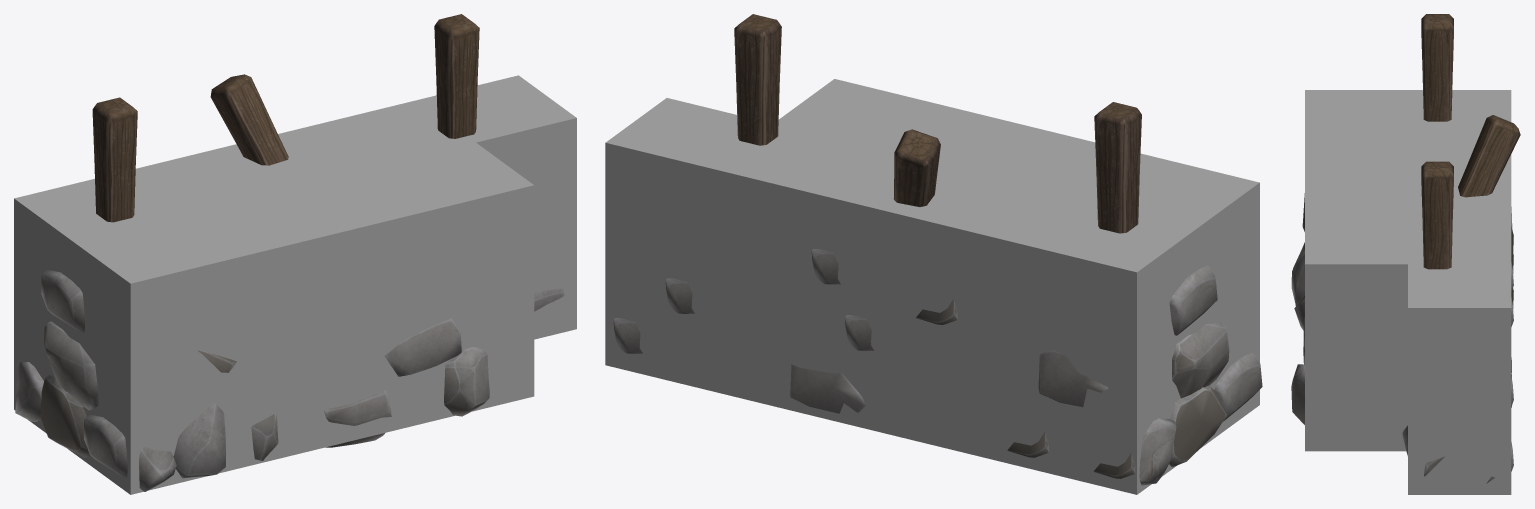
Rendered from little_ruin_variant_4.fbx.
3 views of the same model, side by side, from view 1: azimuth 30°, elevation 25°; view 2: azimuth 150°, elevation 25°; view 3: azimuth 270°, elevation 25° (orthographic). The views are drawn at different scales.
Visible parts, largest first — view 1: standardCube7, brick1_low11; view 2: standardCube7, brick1_low11; view 3: standardCube7, brick1_low11.
Boxes of the visible parts, bbox=[...] form: standardCube7: bbox=[14, 75, 576, 494]; brick1_low11: bbox=[15, 14, 564, 491]; standardCube7: bbox=[605, 79, 1259, 494]; brick1_low11: bbox=[613, 14, 1262, 485]; standardCube7: bbox=[1305, 90, 1511, 494]; brick1_low11: bbox=[1291, 14, 1520, 483].
Bounding box in the file's own units: 513 × 313 × 222.
Materials: 2 (1 with a texture image).
